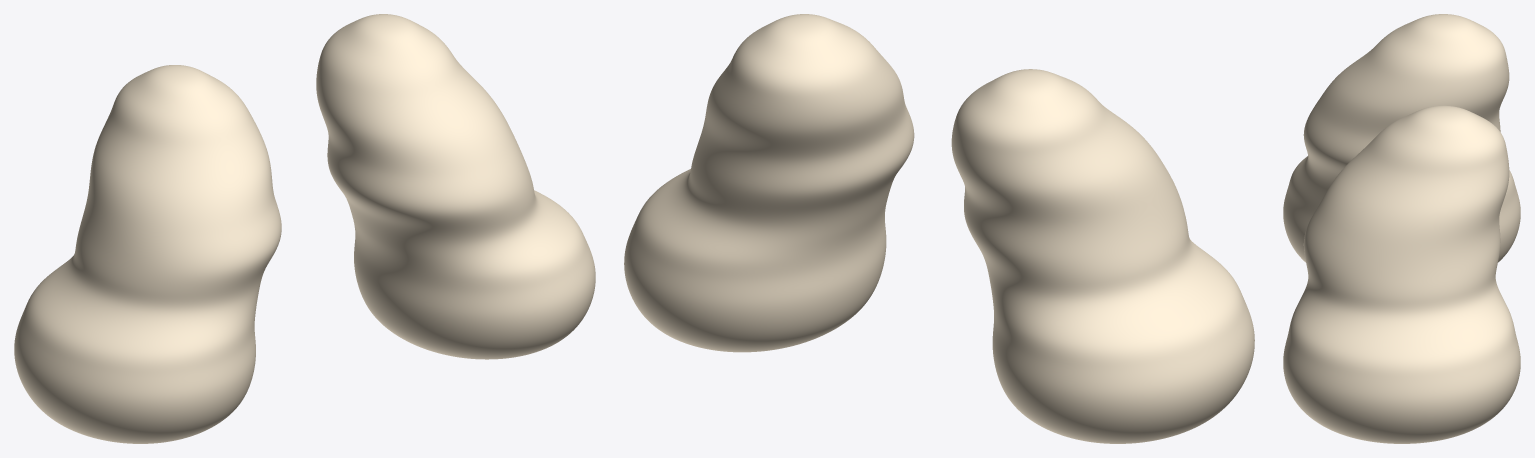
File: legs.glb
3 views of the same model, side by side, from view 1: azimuth 30°, elevation 25°; view 2: azimuth 150°, elevation 25°; view 3: azimuth 270°, elevation 25° (orthographic). The views are drawn at different scales.
Visible parts, largest first — view 1: Leg_L, Leg_R; view 2: Leg_L, Leg_R; view 3: Leg_R, Leg_L.
Boxes of the visible parts, x1,y1,x2,y2 form: Leg_L: [14, 65, 281, 443]; Leg_R: [316, 14, 595, 359]; Leg_L: [951, 69, 1254, 443]; Leg_R: [624, 14, 914, 352]; Leg_R: [1283, 105, 1520, 443]; Leg_L: [1283, 14, 1520, 262].
Size of the model in its own units: 54.7 by 30 by 23.
